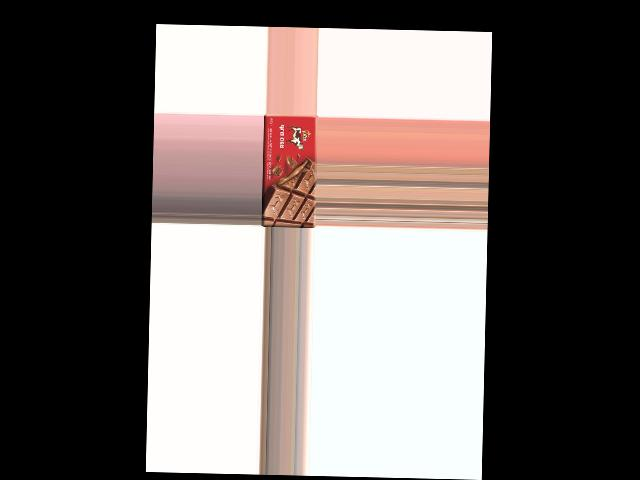chocolate: (262, 113, 317, 226)
